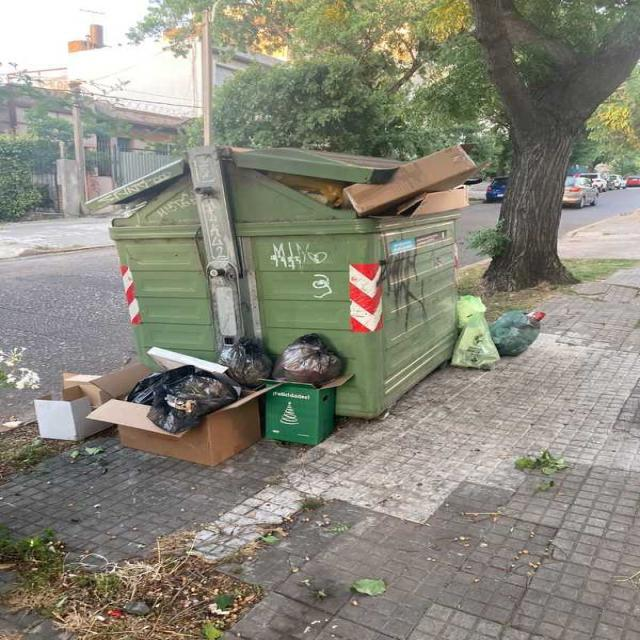garbage: (0, 328, 415, 469), (253, 142, 501, 238), (426, 271, 546, 387)
